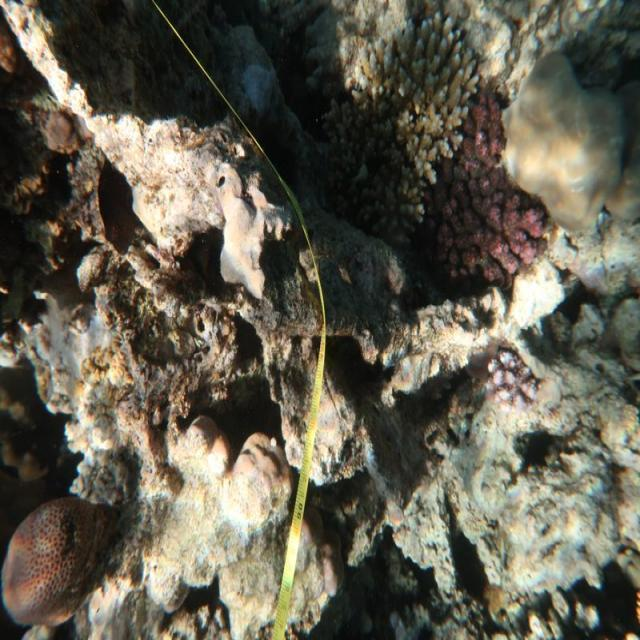Healthy Coral: (433, 95, 545, 290), (0, 493, 118, 622)
